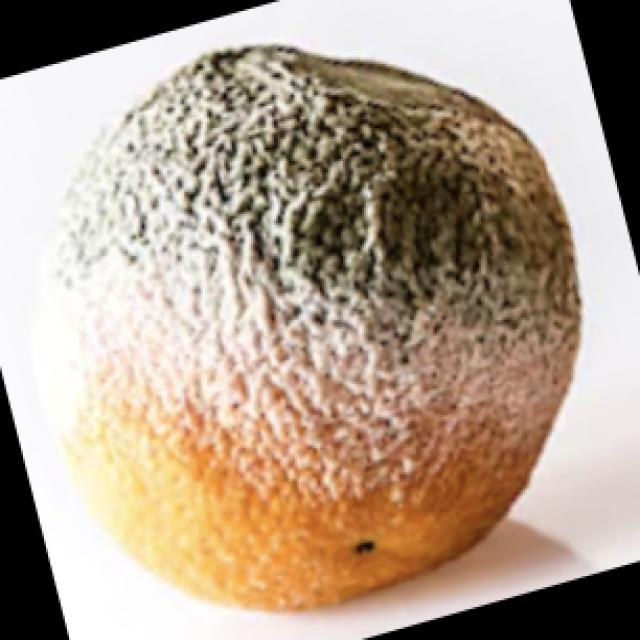sangat_busuk: (52, 47, 581, 617)
